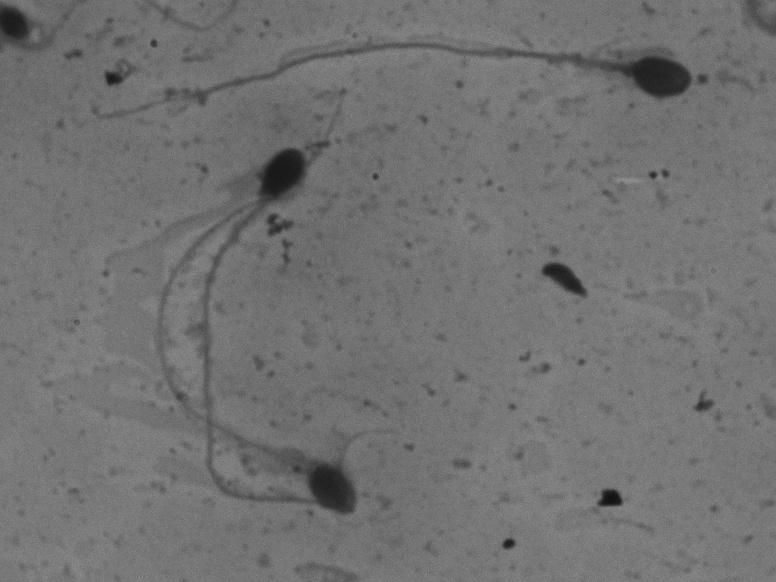Normal: (135, 187, 395, 544), (58, 24, 712, 145), (185, 138, 338, 522)
